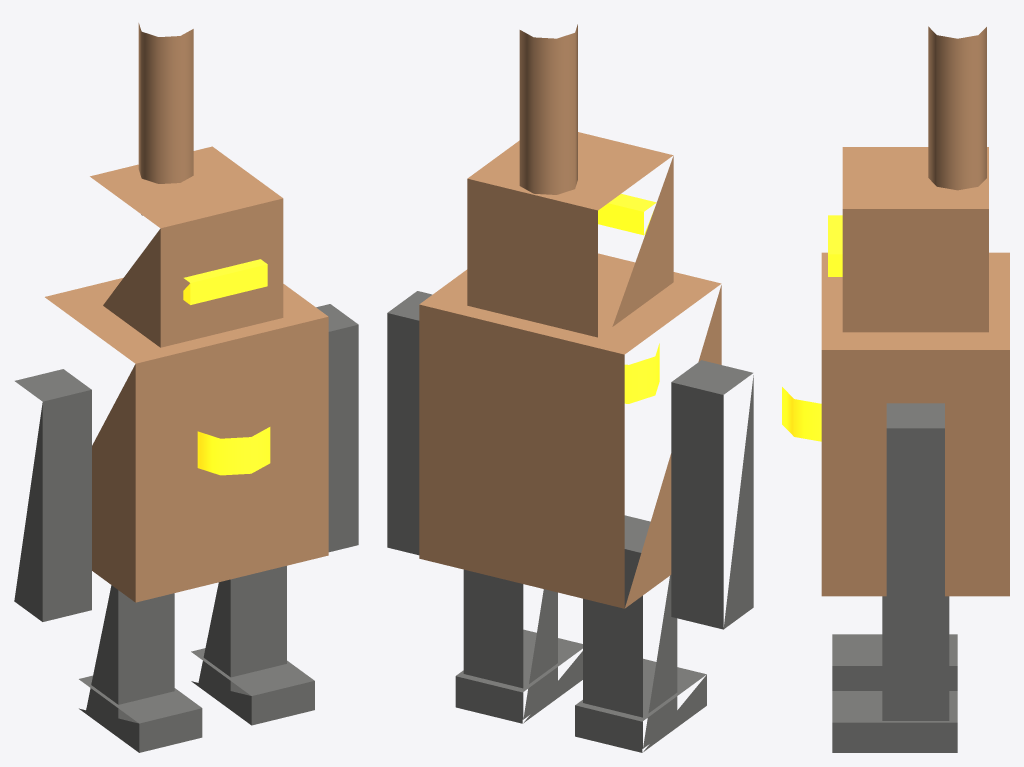
Rendered from golem_steam_03.glb.
3 renders of one model, left to right at view 1: azimuth 30°, elevation 25°; view 2: azimuth 150°, elevation 25°; view 3: azimuth 270°, elevation 25°, orthographic. The views are drawn at different scales.
Parts seen in each view (by area): view 1: SteamBody, SteamIron, SteamGlow; view 2: SteamBody, SteamIron, SteamGlow; view 3: SteamBody, SteamIron, SteamGlow.
Boxes of the visible parts, left/top/right/bottom form: SteamBody: left=45, top=23, right=328, bottom=602; SteamIron: left=14, top=304, right=358, bottom=752; SteamGlow: left=183, top=259, right=270, bottom=475; SteamBody: left=419, top=24, right=721, bottom=608; SteamIron: left=387, top=291, right=753, bottom=752; SteamGlow: left=598, top=194, right=659, bottom=403; SteamBody: left=821, top=26, right=1009, bottom=596; SteamIron: left=832, top=403, right=957, bottom=752; SteamGlow: left=782, top=215, right=842, bottom=441.
Size of the model in its own units: 0.9 by 1.8 by 0.545.
